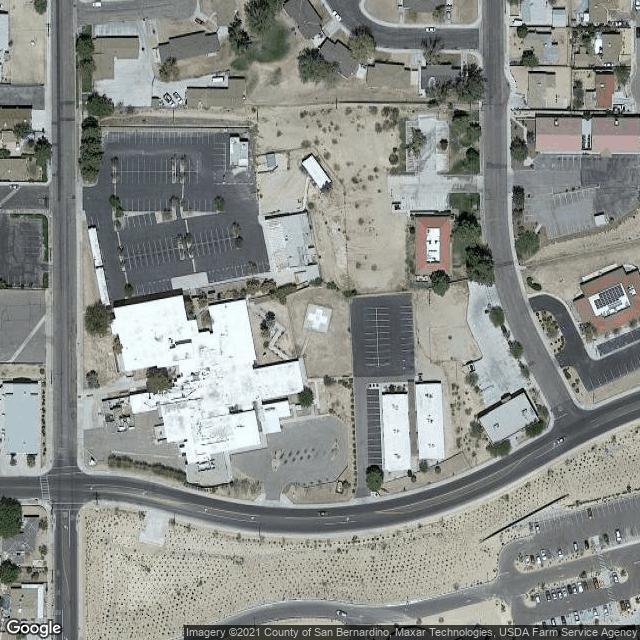Helipad: (303, 302, 331, 334)
